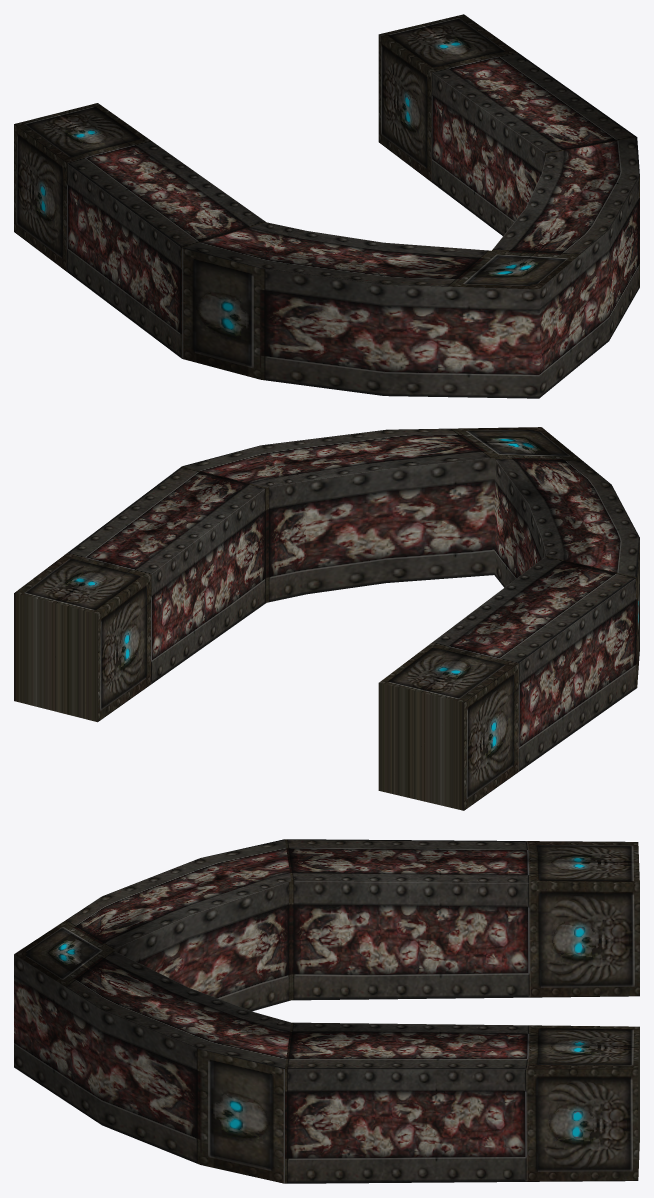
The model's file is gate_13.obj.
The picture shows the model from 3 angles, top to bottom: view 1: azimuth 30°, elevation 25°; view 2: azimuth 150°, elevation 25°; view 3: azimuth 270°, elevation 25°; orthographic projection. The views are drawn at different scales.
Visible parts, largest first — view 1: (null); view 2: (null); view 3: (null).
Part boxes in pixels (x1=…): (null): x1=14, y1=14, x2=639, y2=398; (null): x1=14, y1=427, x2=639, y2=810; (null): x1=14, y1=839, x2=639, y2=1183.
Size of the model in its own units: 2.24 by 0.5513 by 2.58.
